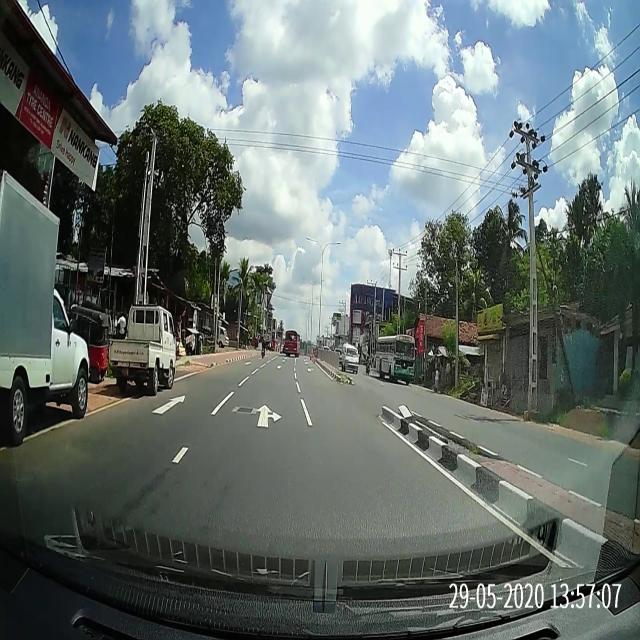forward_right: (202, 396, 319, 438), (205, 403, 315, 430), (213, 395, 310, 420)
